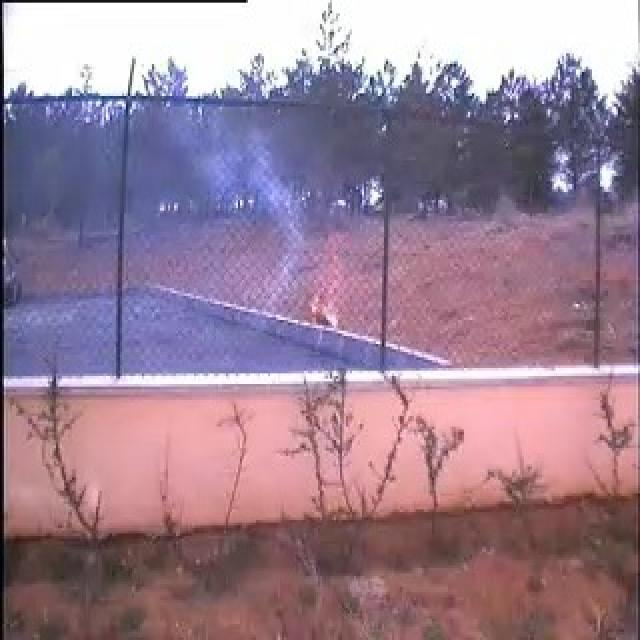smoke: (121, 112, 308, 362)
